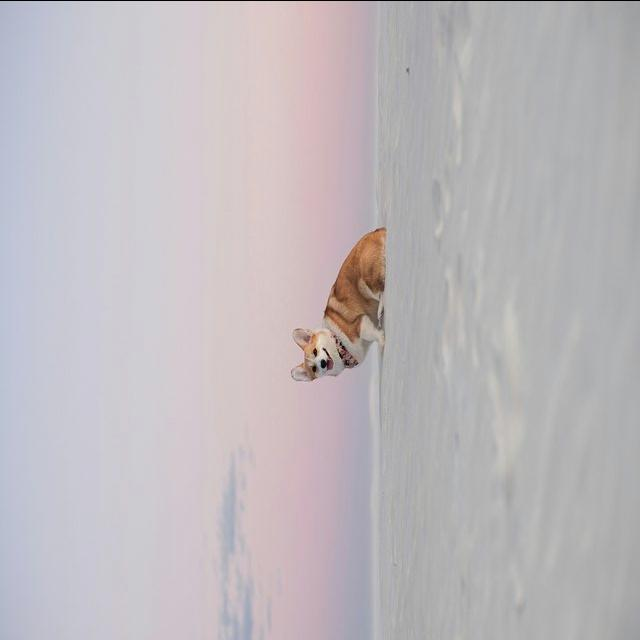corgi: (289, 225, 386, 381)
